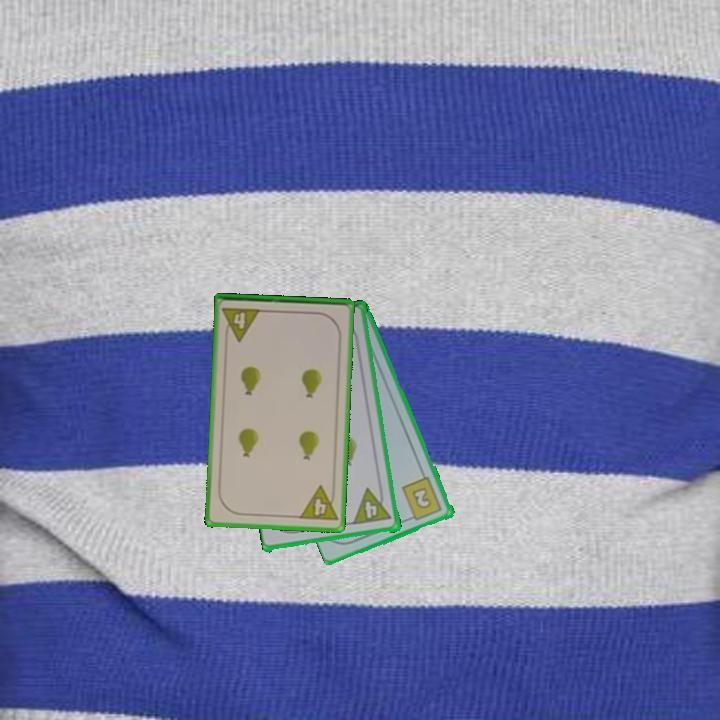2b: (399, 474, 445, 524)
4p: (350, 484, 395, 528), (296, 482, 340, 524), (219, 304, 264, 344)
